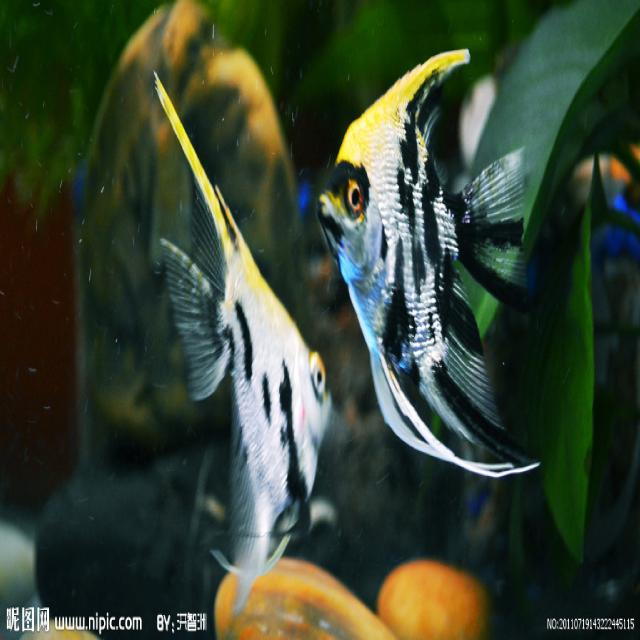AngelFish: (320, 42, 541, 484), (153, 73, 330, 610)
